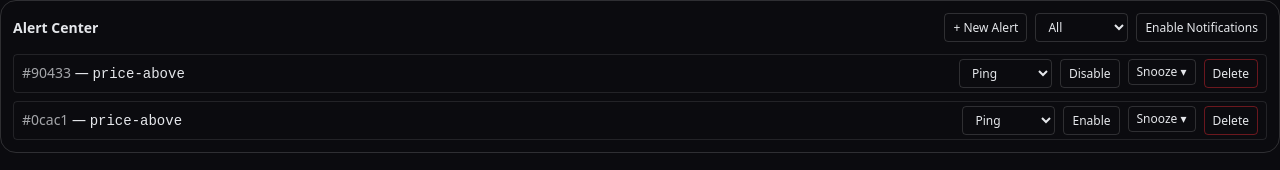
Test: AlertsPanel › filter functionality › should filter to disabled alerts only
The width and height of the screenshot is (1280, 170).
Select "Disabled" in the dropdown showing "All" in the row of "Alert Center" at x=1082, y=28, box [1035,13,1128,42]
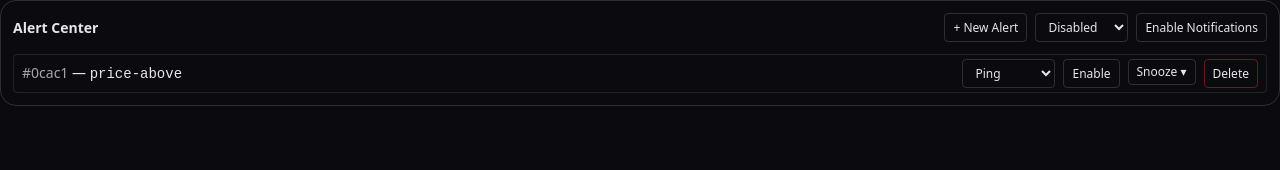
Expected: the text "#0cac1" is shown once, [22,63,68,82]
